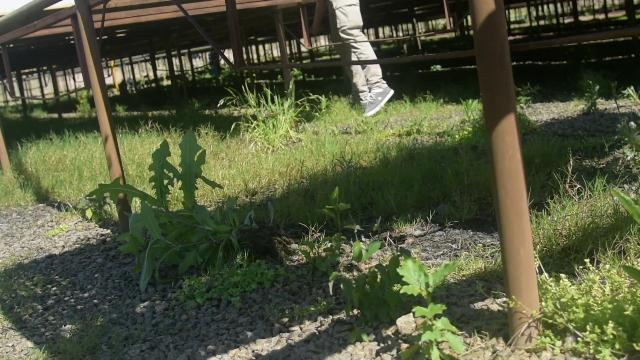MalezaMontesDelPlata: (88, 176, 255, 267), (372, 126, 487, 226), (535, 265, 640, 360), (144, 133, 215, 270), (530, 177, 640, 264), (379, 252, 467, 360), (217, 77, 325, 155), (292, 184, 363, 301), (9, 130, 102, 209), (167, 256, 284, 313)
